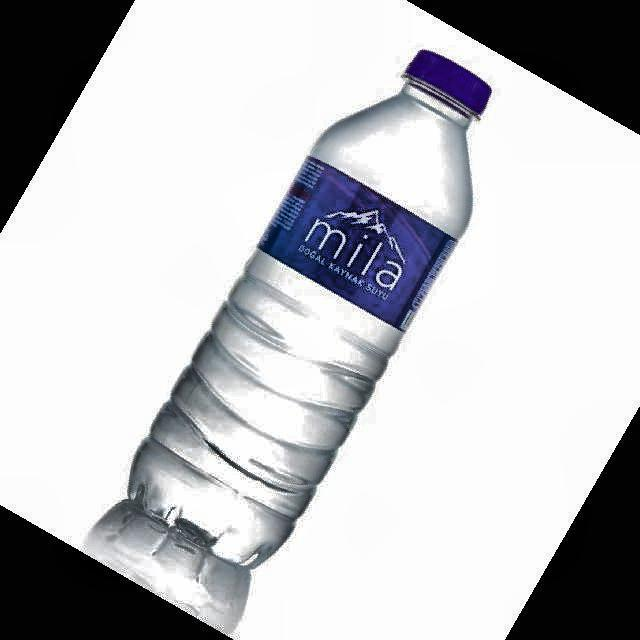plastic: (129, 50, 490, 567)
